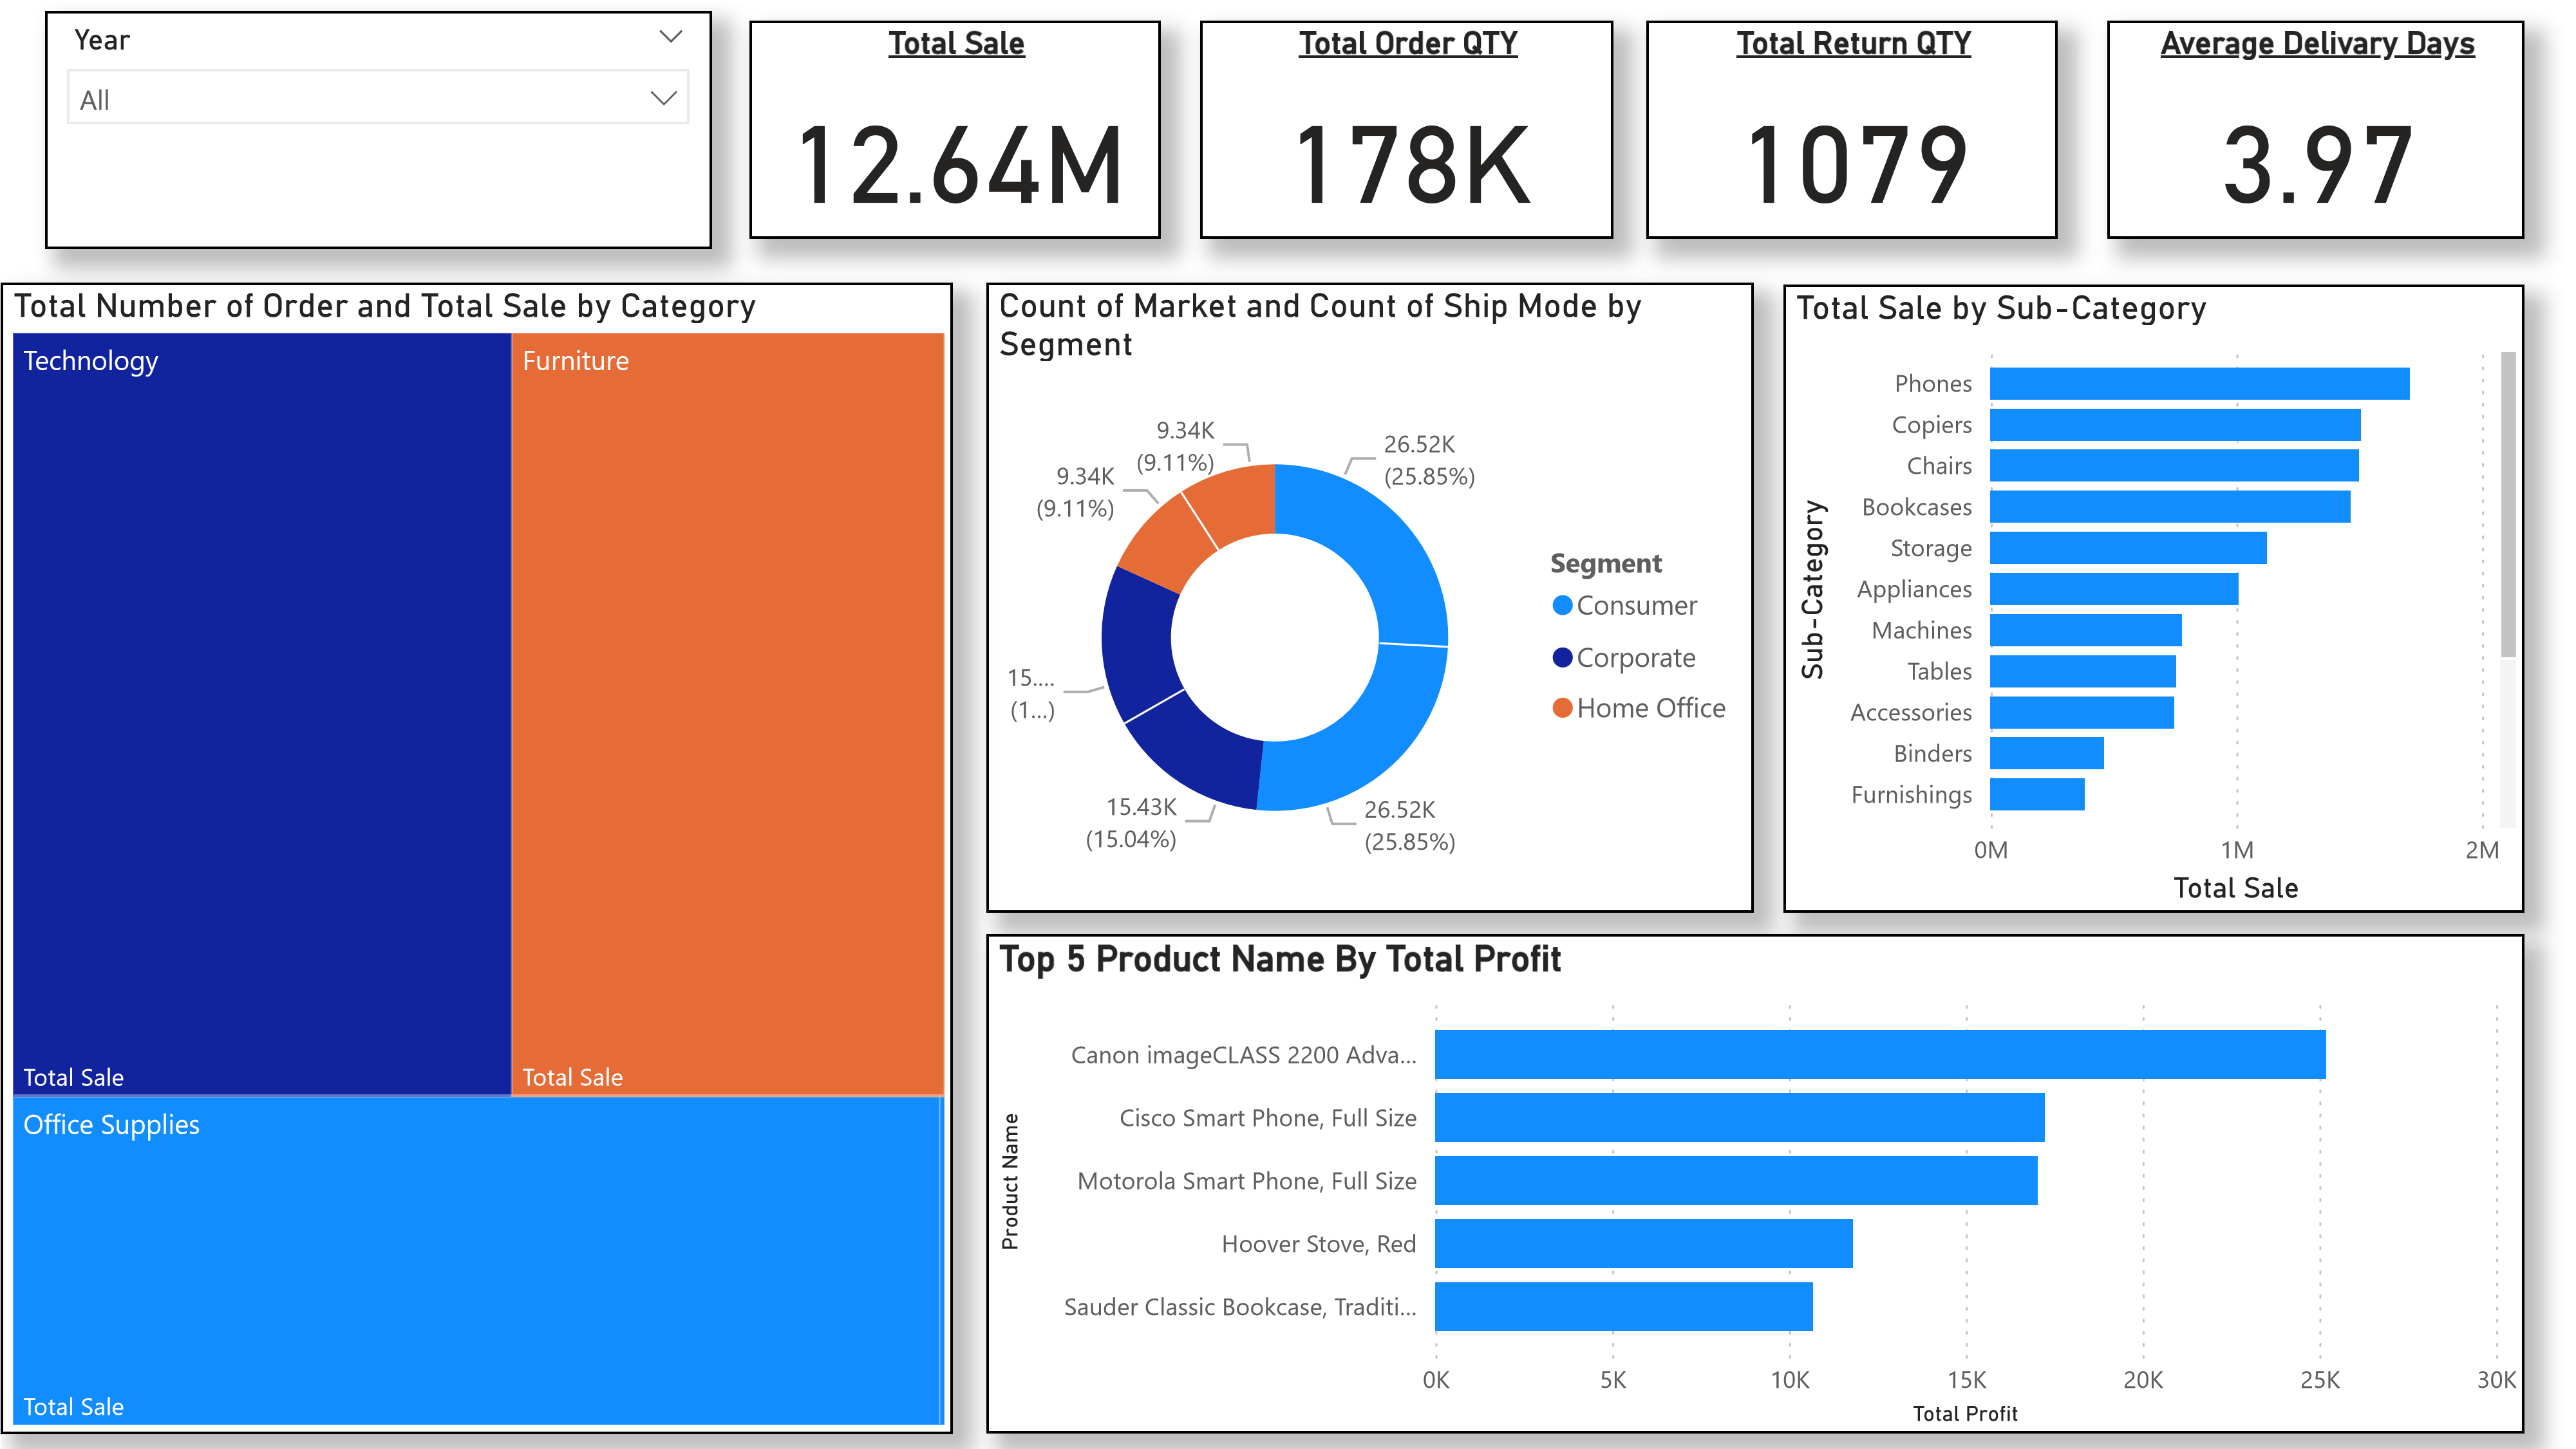

This screenshot's page, from the dashboard's own definition file:
{"tool":"powerbi","page":{"name":"Summary  Page","canvas":[1280,720],"ordinal":1},"visuals":[{"type":"card","title":"Total Sale","fields":{"Values":["Calculations.Total Sale"]},"box":[371.9,9.6,204.5,108.4],"z":0},{"type":"card","title":"Total Order QTY","fields":{"Values":["Calculations.Total Order QTY"]},"box":[595.5,9.6,205.8,108.4],"z":1000},{"type":"card","title":"Total Return QTY","fields":{"Values":["Calculations.Total Return QTY"]},"box":[817.8,9.6,204.5,108.4],"z":2000},{"type":"card","title":"Average Delivary Days","fields":{"Values":["Calculations.Average Delivary Days"]},"box":[1047,9.6,207.2,108.4],"z":3000},{"type":"slicer","fields":{"Values":["Calendar Using Dax.Year"]},"box":[22,5.5,330.7,118],"z":4000},{"type":"donutChart","fields":{"Category":["Orders.Segment"],"Y":["CountNonNull(Orders.Market)","CountNonNull(Orders.Ship Mode)"]},"box":[489.9,140,381.5,312.9],"z":5000},{"type":"treemap","fields":{"Group":["Orders.Category"],"Values":["Calculations.Total Number of Order","Calculations.Total Sale"]},"box":[0,140,473.4,572.2],"z":6000},{"type":"barChart","fields":{"Category":["Orders.Sub-Category"],"Y":["Calculations.Total Sale"]},"box":[886.5,141.3,367.8,311.5],"z":7000},{"type":"barChart","title":"Top 5 Product Name By  Total Profit","fields":{"Category":["Orders.Product Name"],"Y":["Calculations.Total Profit"]},"box":[489.9,463.8,764.3,248.4],"z":8000}]}

Visuals, with their boxes in screenshot pixels (x1, y1, x2, y2), scaled from the page's 1280x720 canvas onto the 2576x1449 screenshot:
"Total Sale" card: <box>748,19,1160,238</box>
"Total Order QTY" card: <box>1198,19,1613,238</box>
"Total Return QTY" card: <box>1646,19,2057,238</box>
"Average Delivary Days" card: <box>2107,19,2524,238</box>
slicer - Calendar Using Dax.Year: <box>44,11,710,248</box>
donutChart - Orders.Segment x CountNonNull(Orders.Market): <box>986,282,1754,911</box>
treemap - Orders.Category x Calculations.Total Number of Order: <box>0,282,953,1434</box>
barChart - Orders.Sub-Category x Calculations.Total Sale: <box>1784,285,2524,911</box>
"Top 5 Product Name By  Total Profit" barChart: <box>986,933,2524,1434</box>
